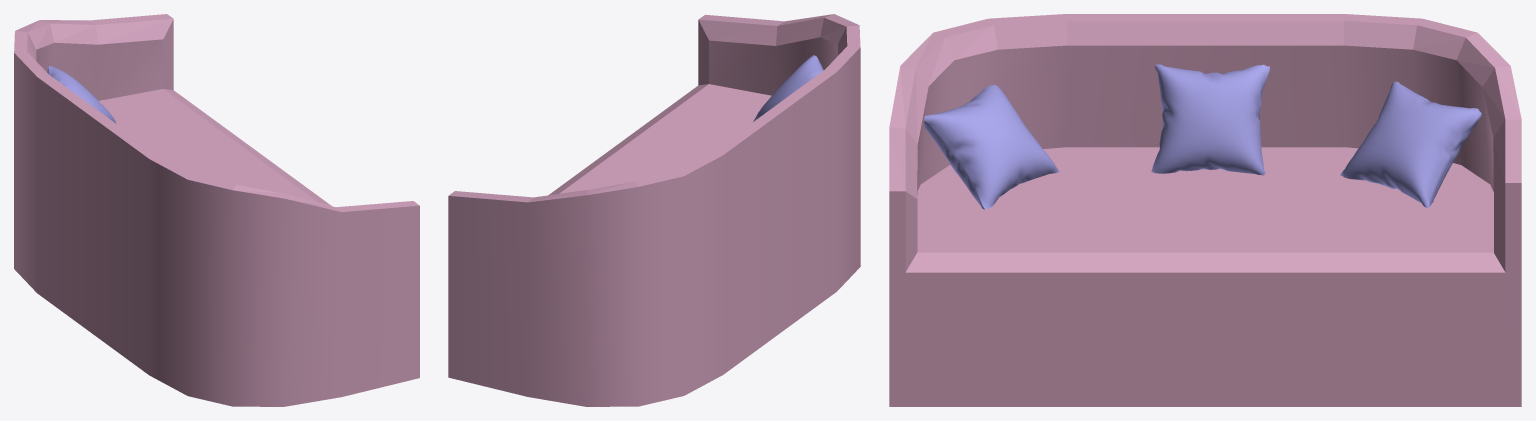
Rendered from canapé.glb.
3 views of the same model, side by side, from view 1: azimuth 30°, elevation 25°; view 2: azimuth 150°, elevation 25°; view 3: azimuth 270°, elevation 25° (orthographic). The views are drawn at different scales.
Visible parts, largest first — view 1: Box001, Box003; view 2: Box001, Box002; view 3: Box001, Box004, Box003, Box002.
Boxes of the visible parts, x1,y1,x2,y2 form: Box001: [14, 14, 419, 406]; Box003: [47, 66, 116, 123]; Box001: [448, 14, 860, 406]; Box002: [753, 55, 823, 121]; Box001: [889, 14, 1521, 406]; Box004: [1151, 64, 1269, 175]; Box003: [1340, 81, 1481, 207]; Box002: [924, 85, 1059, 209].
Bounding box in the file's own units: 0.8237 × 0.8503 × 1.8.
